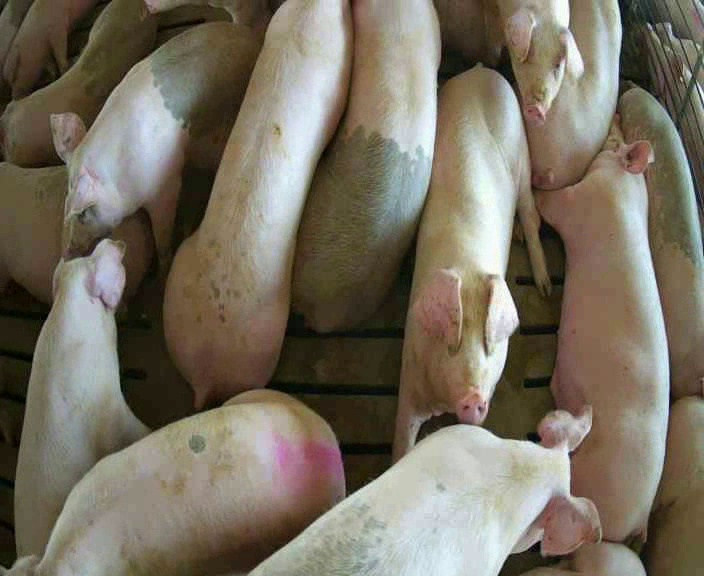pig: (164, 2, 351, 408), (395, 66, 549, 459), (252, 410, 600, 574), (535, 122, 668, 541), (49, 22, 259, 254), (292, 2, 440, 330), (15, 239, 148, 556), (618, 86, 703, 398), (0, 2, 157, 166), (482, 1, 583, 126), (646, 397, 703, 574), (4, 2, 97, 98)
